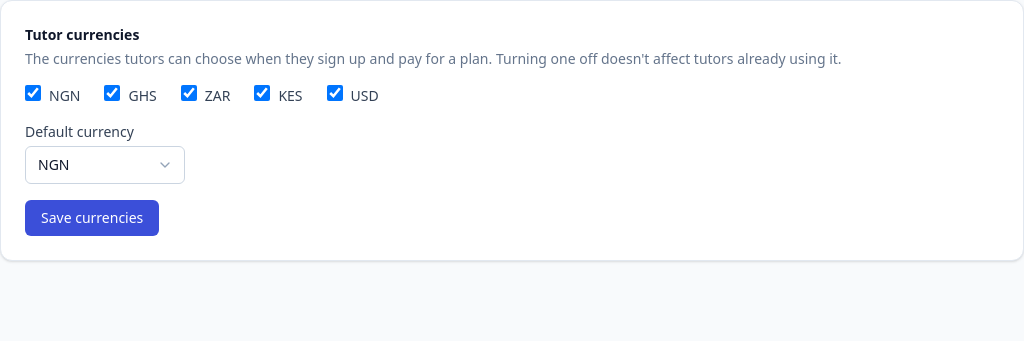
it: TutorCurrenciesCard › shows the server's message when a save is refused
Click the button "Save currencies". click: (92, 218)
box: [25, 200, 159, 236]
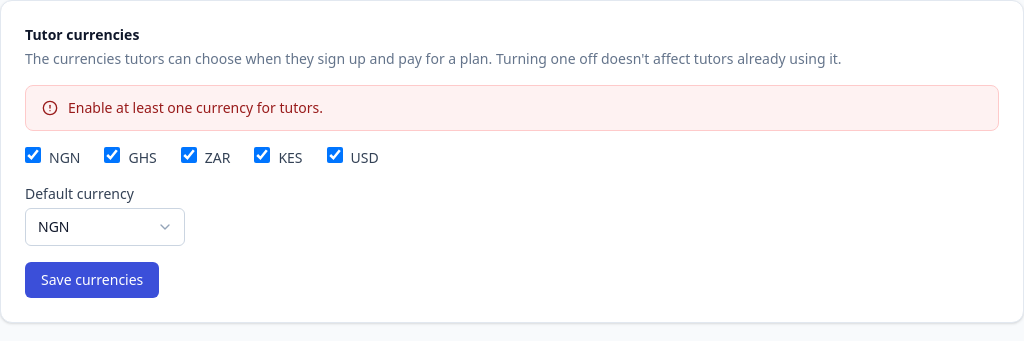
Result: the text "Enable at least one currency for tutors." is shown at [68, 98, 323, 118]
